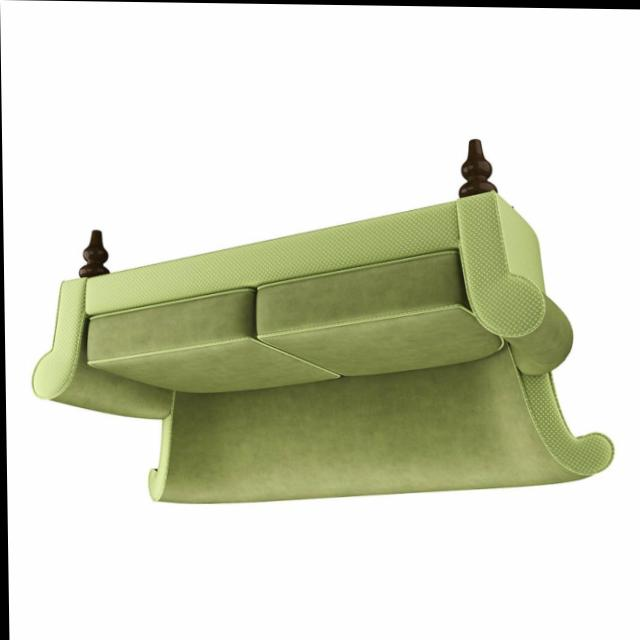Sofa: (29, 132, 616, 508)
